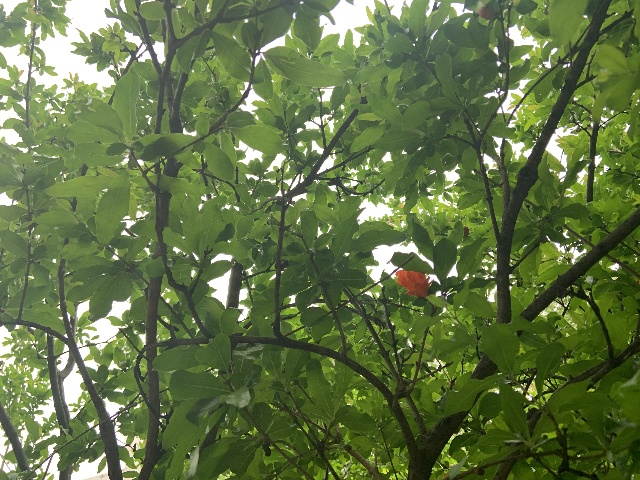flower: (395, 269, 434, 297)
